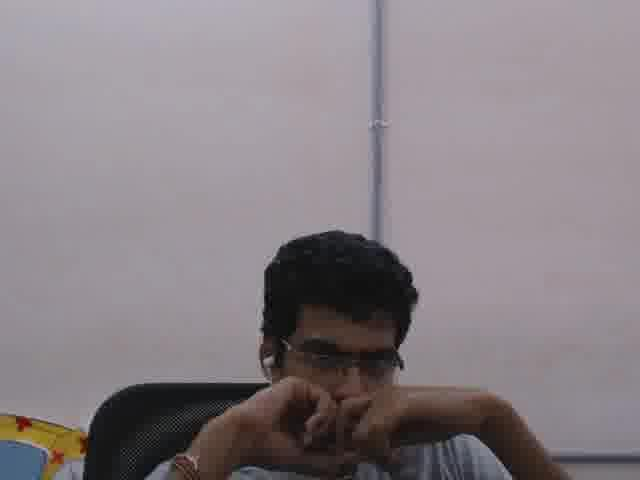bingung: (281, 303, 402, 452)
